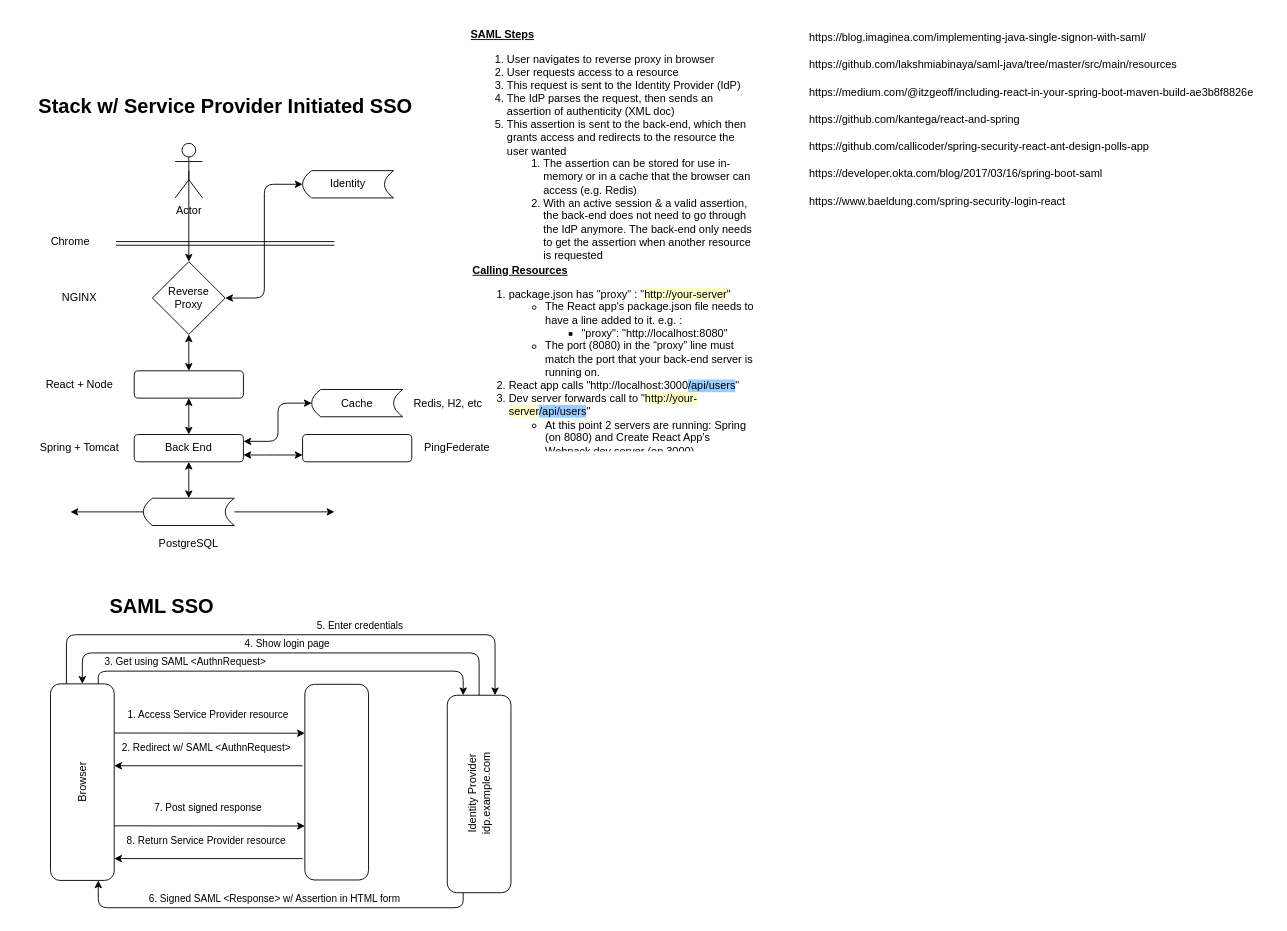
This 1287x931 diagram has some shape labels left out. The centre of each missing label's shape, as x and y in pixels:
Database: [188,511]
Front End: [188,384]
Identity Provider: [357,448]
Service Provider sp.example.com: [336,781]
